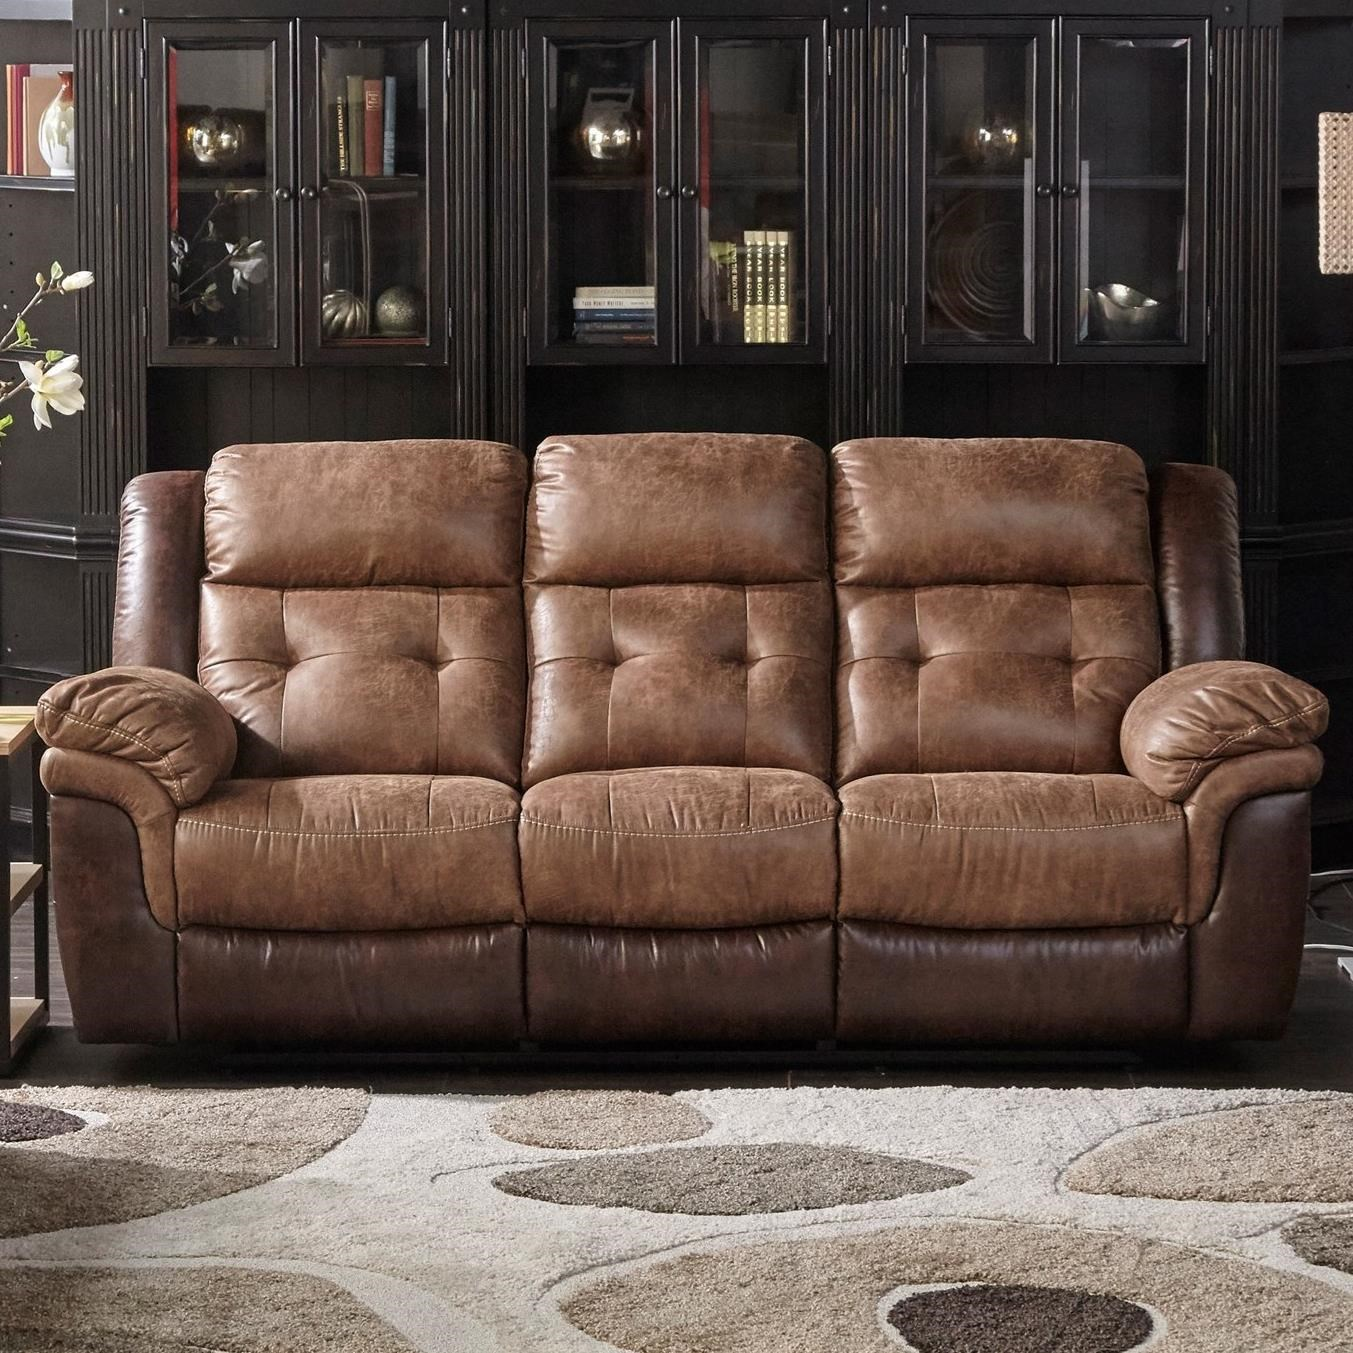sofa: (40, 439, 1328, 1075)
